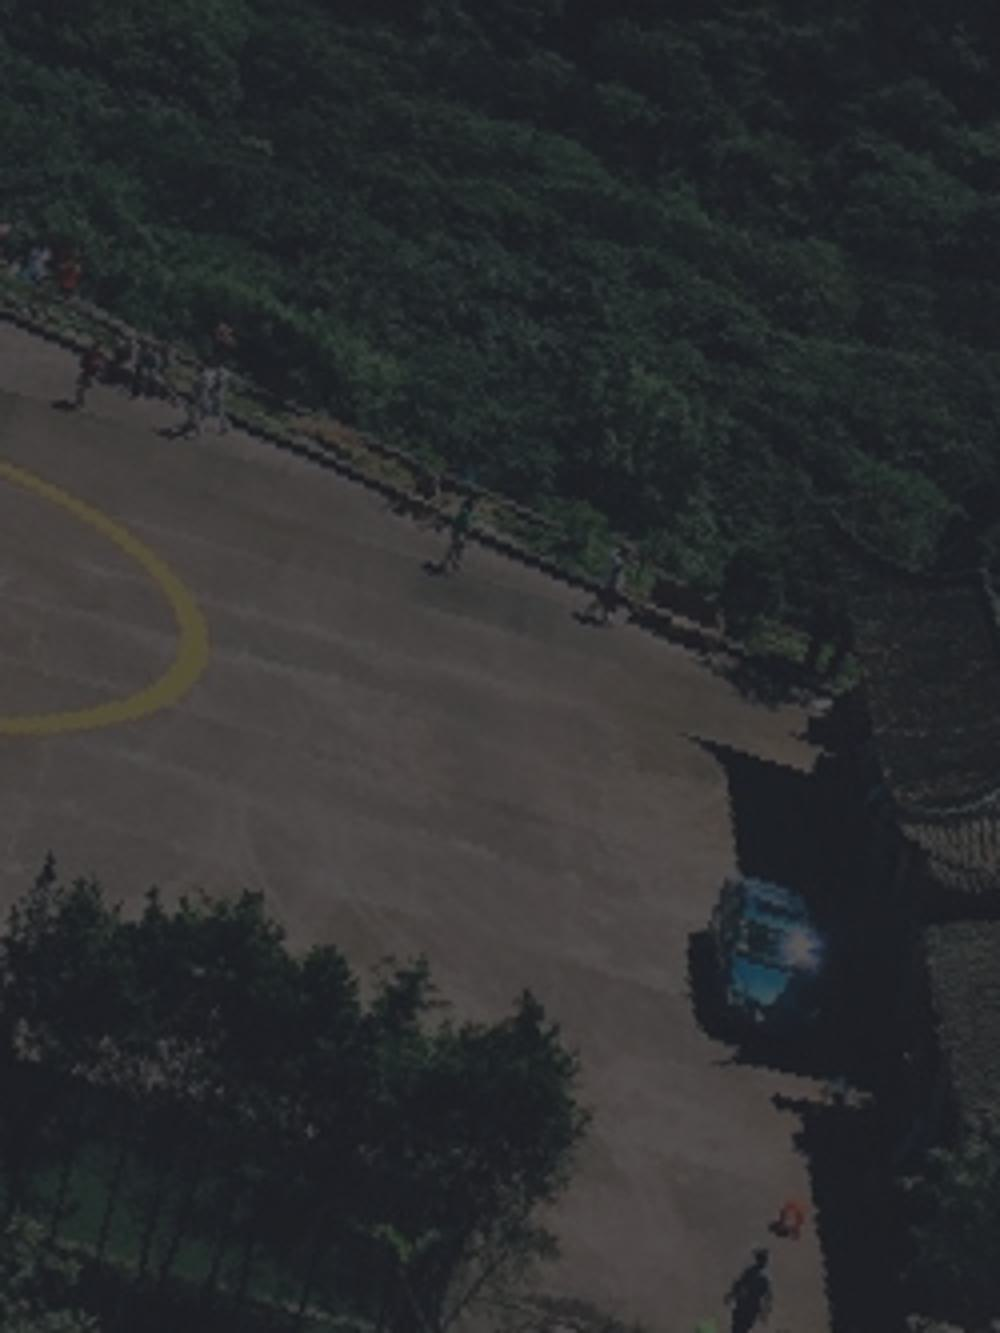Apron: (1, 451, 217, 747)
